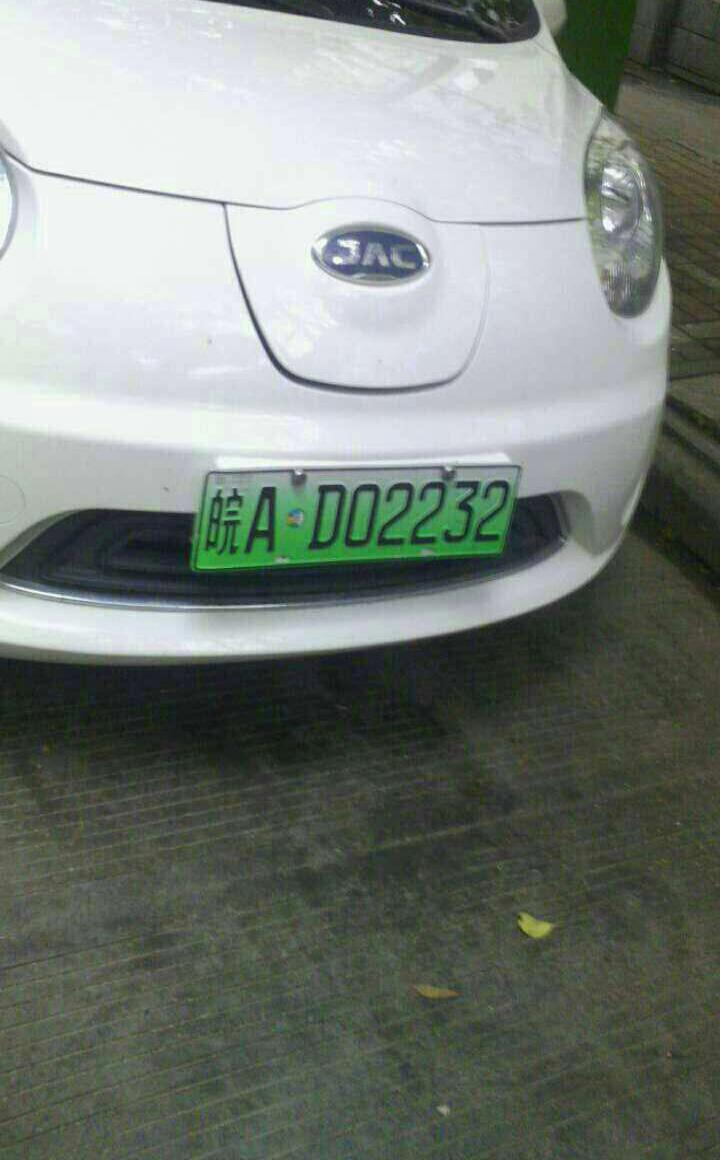car: (195, 471, 520, 569)
